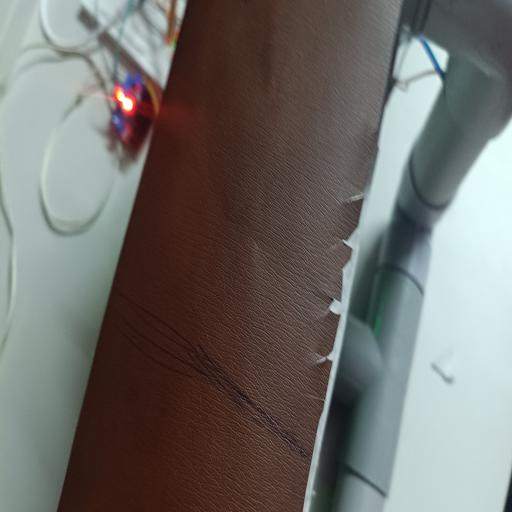edge_damage: (160, 54, 405, 428)
